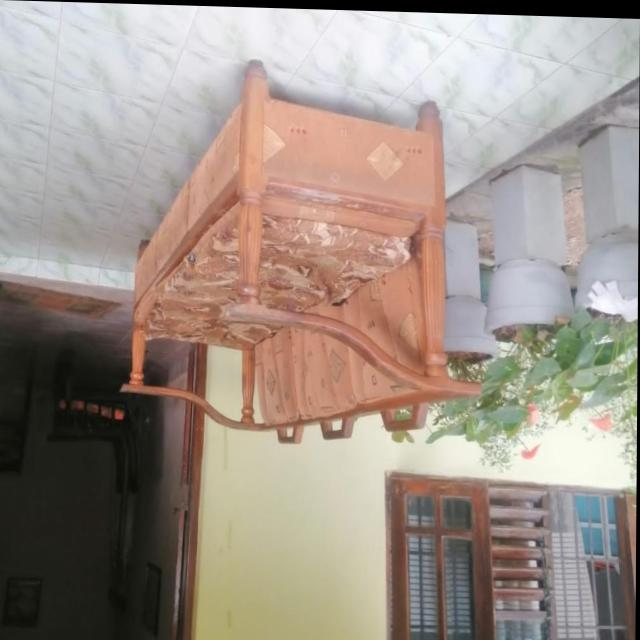Sofa: (120, 55, 484, 450)
